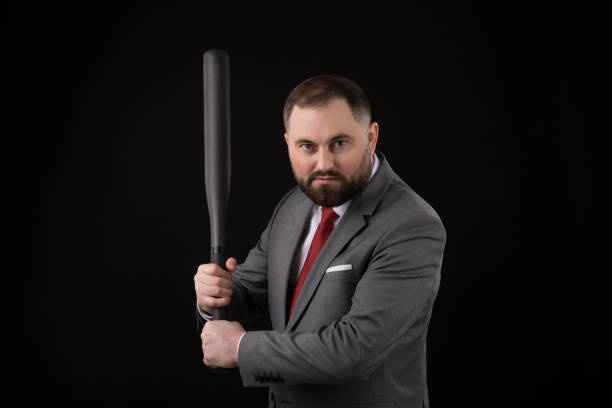bita: (199, 51, 235, 306)
